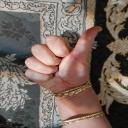ThumbsUp: (22, 20, 106, 98)
